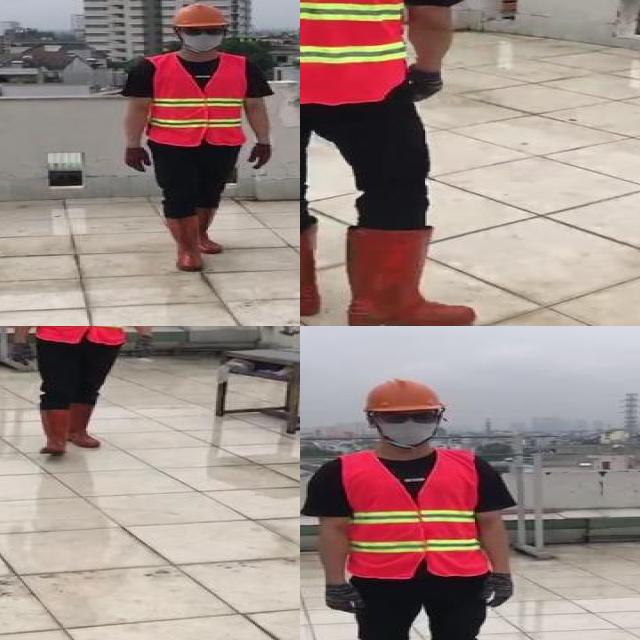boots: (348, 228, 476, 326), (163, 217, 204, 272), (300, 228, 318, 317), (194, 205, 226, 254), (72, 406, 100, 450), (44, 409, 68, 455)
face_mask: (378, 407, 444, 445), (179, 23, 225, 50)
glasses: (376, 406, 440, 426), (180, 26, 228, 38)
hand_glove: (322, 584, 365, 617), (484, 576, 518, 606), (125, 148, 156, 172), (249, 144, 274, 172), (8, 341, 36, 366), (131, 333, 150, 361)
head_helmet: (359, 377, 445, 414), (167, 1, 233, 28)
person: (300, 0, 499, 326), (301, 375, 531, 640), (114, 0, 283, 275), (3, 326, 163, 462)
vest: (340, 447, 491, 580), (300, 0, 416, 106), (144, 54, 245, 148), (40, 326, 127, 344)
